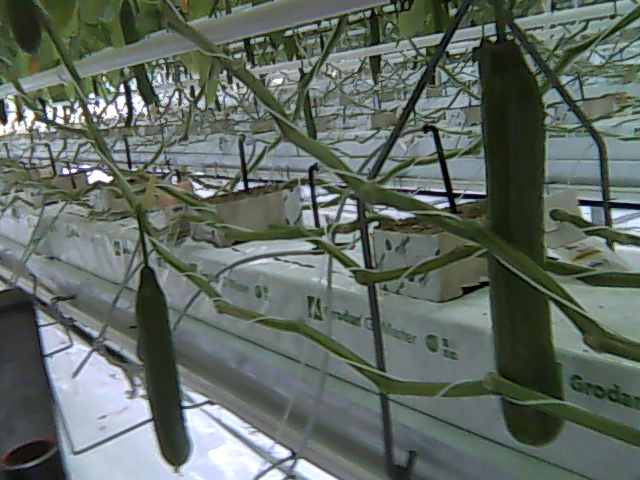concombre: (468, 33, 573, 452), (130, 258, 196, 476)
